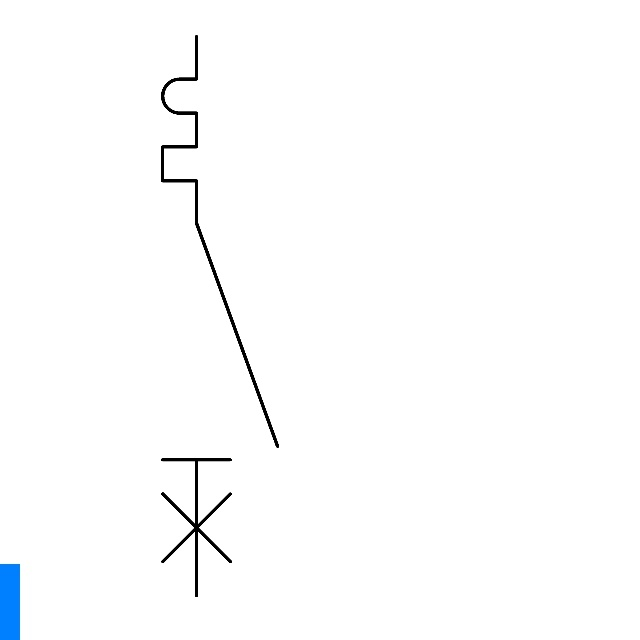interruptor_termomagnetico: (148, 22, 292, 610)
